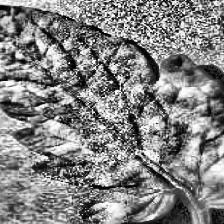leaf mold: (27, 0, 224, 224)
